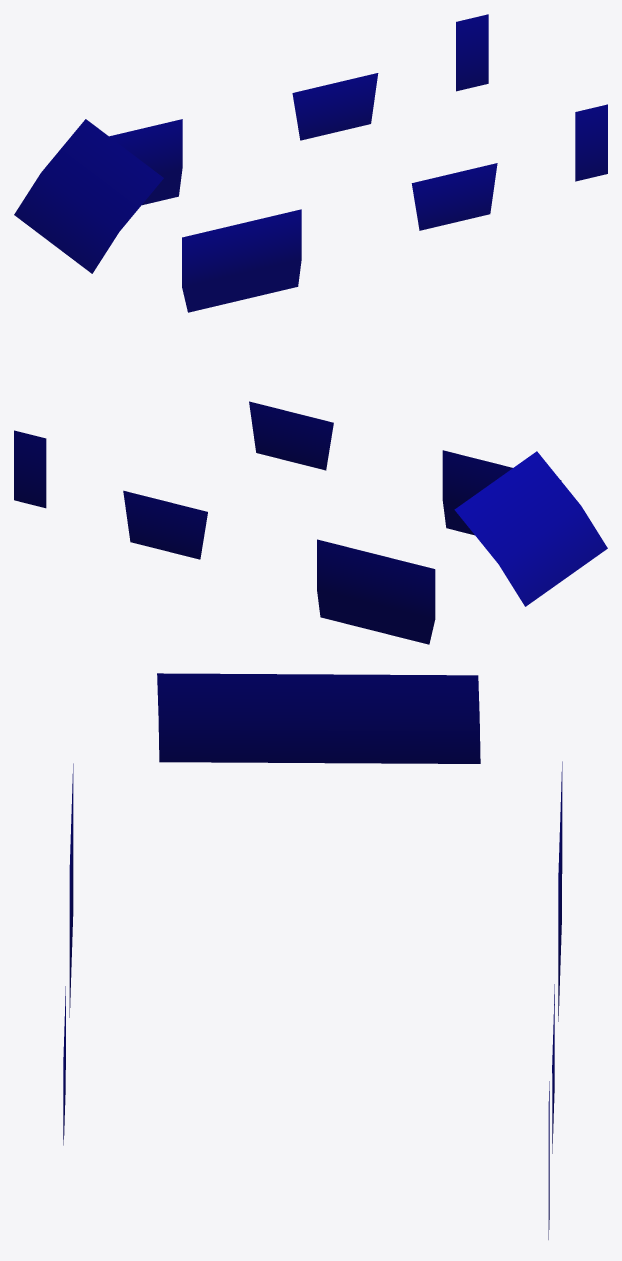
File: windowRefl.137.fbx
3 views of the same model, one above another, from view 1: azimuth 30°, elevation 25°; view 2: azimuth 150°, elevation 25°; view 3: azimuth 270°, elevation 25° (orthographic). The views are drawn at different scales.
Visible parts, largest first — view 1: windowRefl.137; view 2: windowRefl.137; view 3: windowRefl.137.
Part boxes in pixels (x1,y1,x2,y2): windowRefl.137: (14,14,607,312); windowRefl.137: (14,401,607,644); windowRefl.137: (63,673,562,1239).
Size of the model in its own units: 241 by 546 by 127.
